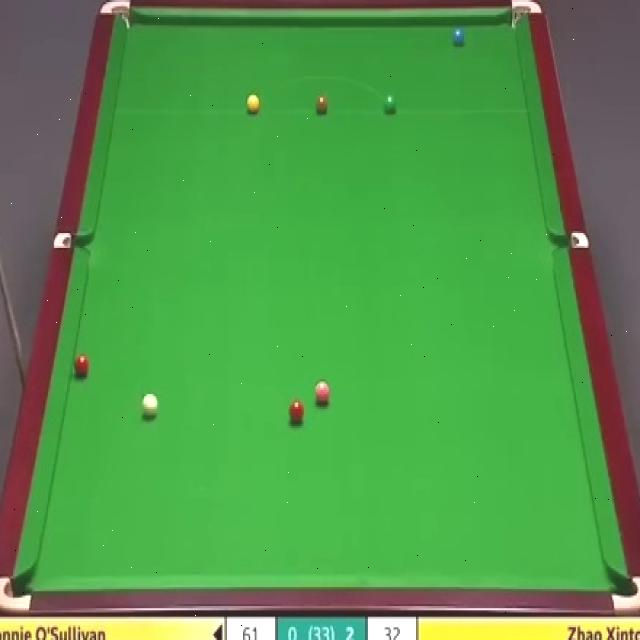blue-ball: (451, 26, 465, 45)
brown-ball: (314, 92, 329, 114)
green-ball: (381, 93, 397, 115)
pink-ball: (313, 379, 331, 404)
red-ball: (73, 353, 90, 378), (289, 398, 305, 421)
white-ball: (140, 394, 158, 422)
yellow-ball: (246, 91, 260, 113)
